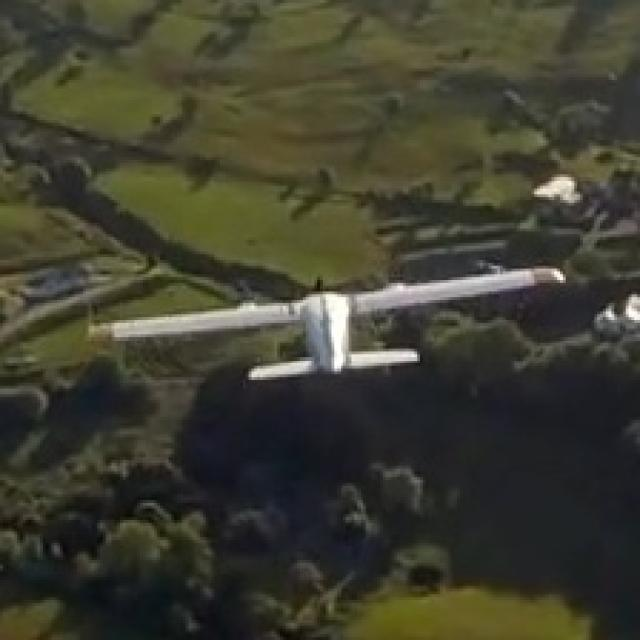iha: (89, 256, 557, 390)
